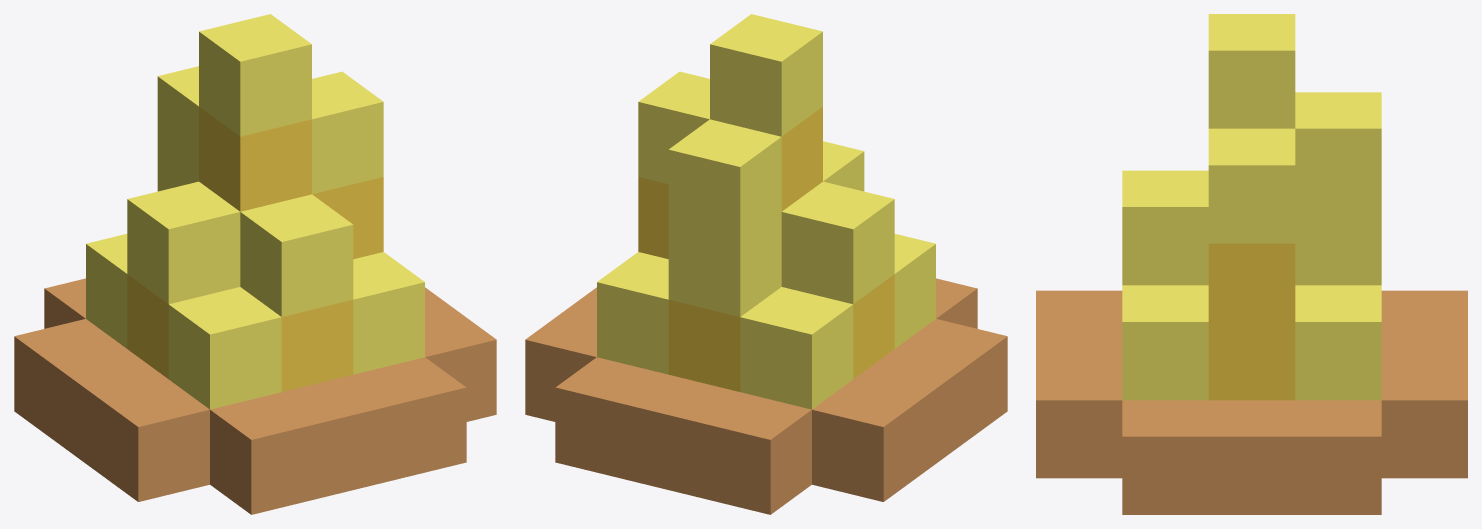
File: Campfire.obj
3 views of the same model, side by side, from view 1: azimuth 30°, elevation 25°; view 2: azimuth 150°, elevation 25°; view 3: azimuth 270°, elevation 25° (orthographic). The views are drawn at different scales.
Size of the model in its own units: 0.5 by 0.5 by 0.5.
1 material, 1 textured.
